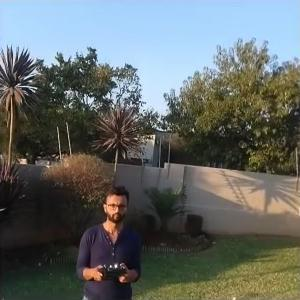follow: (71, 182, 145, 299)
